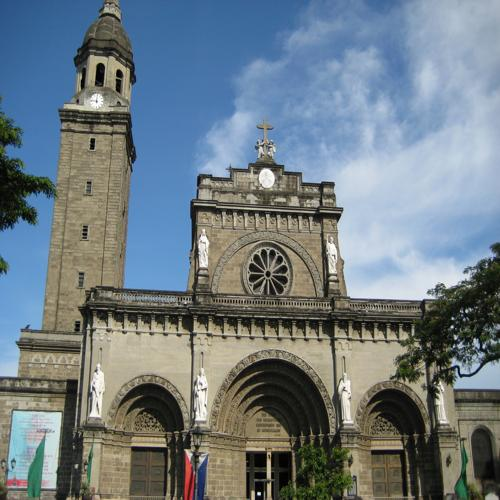Manila Cathedral Church: (5, 3, 487, 495)
